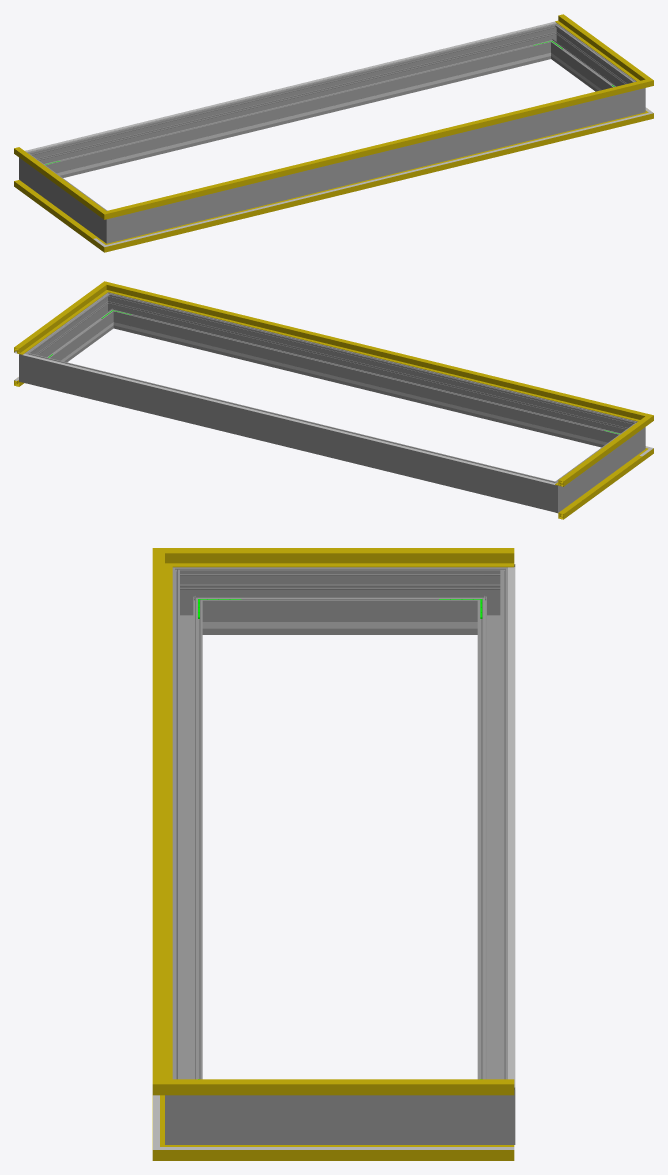
The picture shows the model from 3 angles, top to bottom: view 1: azimuth 30°, elevation 25°; view 2: azimuth 150°, elevation 25°; view 3: azimuth 270°, elevation 25°; orthographic projection. The views are drawn at different scales.
Parts seen in each view (by area): view 1: 3DGeom-278, 3DGeom-300, 3DGeom-123, 3DGeom-11, 3DGeom-299, 3DGeom-246, 3DGeom-270, 3DGeom-222, 3DGeom-20, 3DGeom-128, 3DGeom-118, 3DGeom-272 (+4 smaller); view 2: 3DGeom-300, 3DGeom-278, 3DGeom-123, 3DGeom-299, 3DGeom-241, 3DGeom-270, 3DGeom-222, 3DGeom-128, 3DGeom-118, 3DGeom-280, 3DGeom-6, 3DGeom-286 (+2 smaller); view 3: 3DGeom-270, 3DGeom-278, 3DGeom-300, 3DGeom-299, 3DGeom-123, 3DGeom-118, 3DGeom-128, 3DGeom-16, 3DGeom-222, 3DGeom-286, 3DGeom-292, 3DGeom-272 (+5 smaller).
Part boxes in pixels (<box>): 3DGeom-278: <box>40,27,547,177</box>; 3DGeom-300: <box>126,92,625,238</box>; 3DGeom-123: <box>121,83,634,214</box>; 3DGeom-11: <box>121,116,634,247</box>; 3DGeom-299: <box>553,30,630,91</box>; 3DGeom-246: <box>64,57,532,174</box>; 3DGeom-270: <box>30,159,101,234</box>; 3DGeom-222: <box>25,21,555,152</box>; 3DGeom-20: <box>122,116,633,242</box>; 3DGeom-128: <box>555,14,642,79</box>; 3DGeom-118: <box>14,147,97,211</box>; 3DGeom-272: <box>95,206,126,243</box>; 3DGeom-300: <box>117,296,623,447</box>; 3DGeom-278: <box>38,356,541,508</box>; 3DGeom-123: <box>119,286,633,419</box>; 3DGeom-299: <box>33,299,111,362</box>; 3DGeom-241: <box>132,327,600,443</box>; 3DGeom-270: <box>563,428,634,504</box>; 3DGeom-222: <box>23,353,555,484</box>; 3DGeom-128: <box>14,289,101,354</box>; 3DGeom-118: <box>555,422,642,486</box>; 3DGeom-280: <box>538,476,569,512</box>; 3DGeom-6: <box>556,455,642,519</box>; 3DGeom-286: <box>19,347,41,386</box>; 3DGeom-270: <box>210,567,469,634</box>; 3DGeom-278: <box>477,583,507,1079</box>; 3DGeom-300: <box>172,583,202,1079</box>; 3DGeom-299: <box>210,1095,469,1144</box>; 3DGeom-123: <box>152,567,172,1075</box>; 3DGeom-118: <box>198,548,514,567</box>; 3DGeom-128: <box>198,1079,514,1095</box>; 3DGeom-16: <box>198,1145,514,1160</box>; 3DGeom-222: <box>508,567,515,1087</box>; 3DGeom-286: <box>470,1071,515,1144</box>; 3DGeom-292: <box>165,1071,210,1144</box>; 3DGeom-272: <box>172,567,210,634</box>.
Size of the model in its own units: 4.27 by 0.2836 by 1.22.
